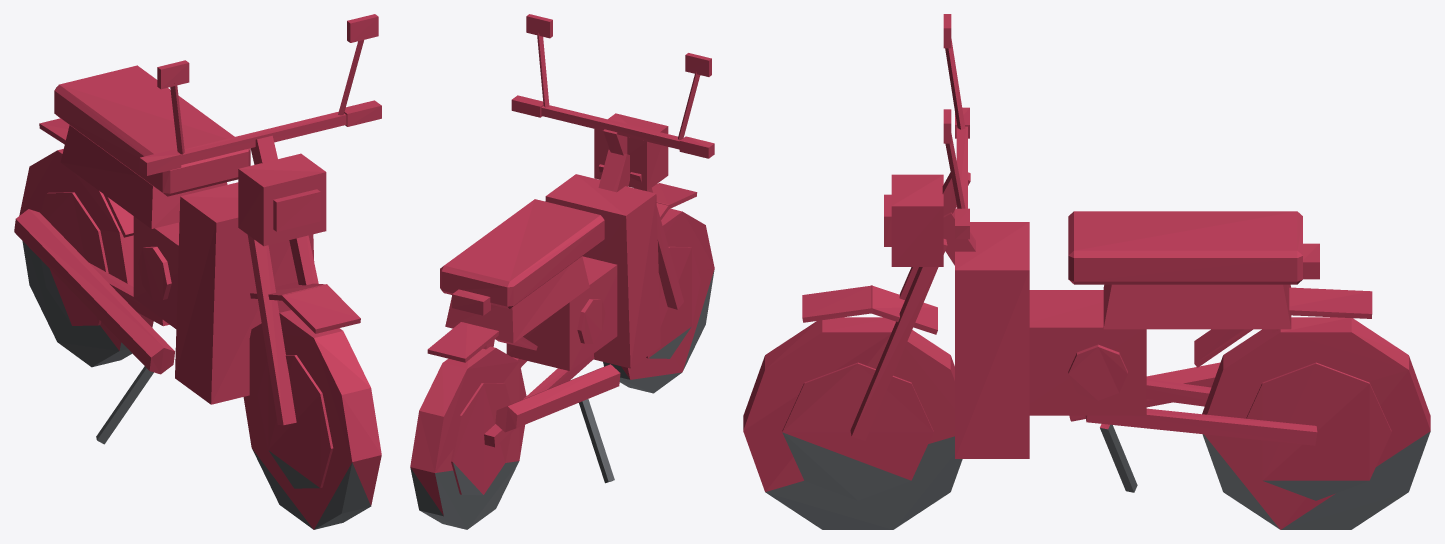
File: motorbike-00.glb
The picture shows the model from 3 angles, left to right: view 1: azimuth 30°, elevation 25°; view 2: azimuth 150°, elevation 25°; view 3: azimuth 270°, elevation 25°; orthographic projection. The views are drawn at different scales.
Visible parts, largest first — view 1: motorbike_00; view 2: motorbike_00; view 3: motorbike_00.
Boxes of the visible parts, bbox=[...] form: motorbike_00: bbox=[14, 14, 381, 529]; motorbike_00: bbox=[410, 14, 714, 529]; motorbike_00: bbox=[743, 14, 1430, 529].
Bounding box in the file's own units: 0.7499 × 1.36 × 1.84.
